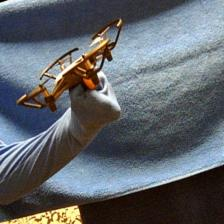drone: (15, 16, 125, 112)
